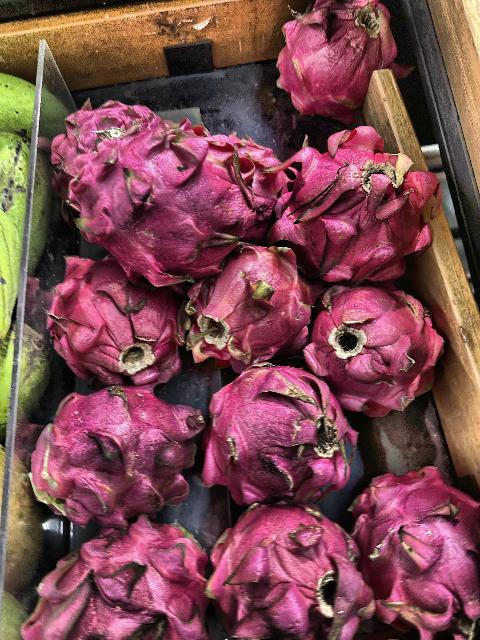buah-naga-matang: (29, 378, 204, 522), (272, 124, 434, 278), (342, 459, 480, 635), (74, 130, 246, 270), (210, 492, 366, 640), (196, 362, 356, 498), (31, 518, 207, 640), (300, 267, 440, 413), (46, 248, 186, 388), (187, 241, 311, 367), (267, 0, 397, 110), (46, 90, 168, 160)
